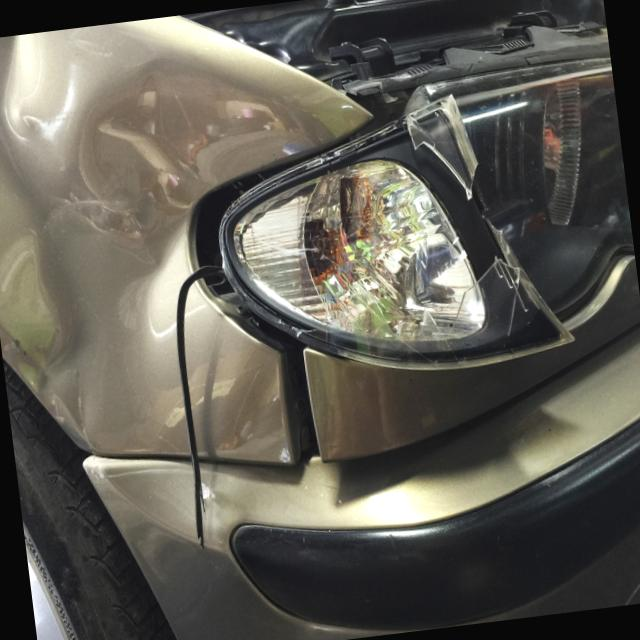Phare abime: (252, 113, 547, 378)
